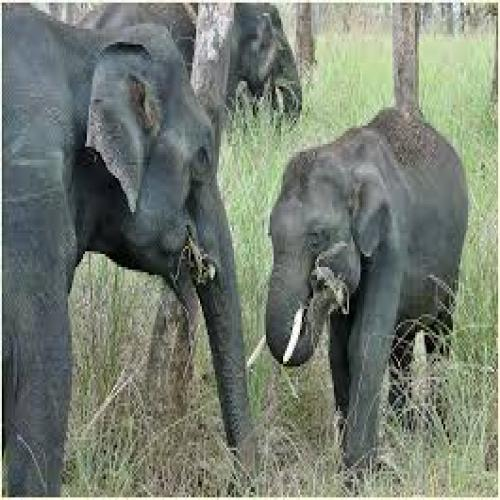asian_elephant-endangered: (0, 0, 254, 496), (263, 108, 466, 472), (79, 0, 303, 120)
